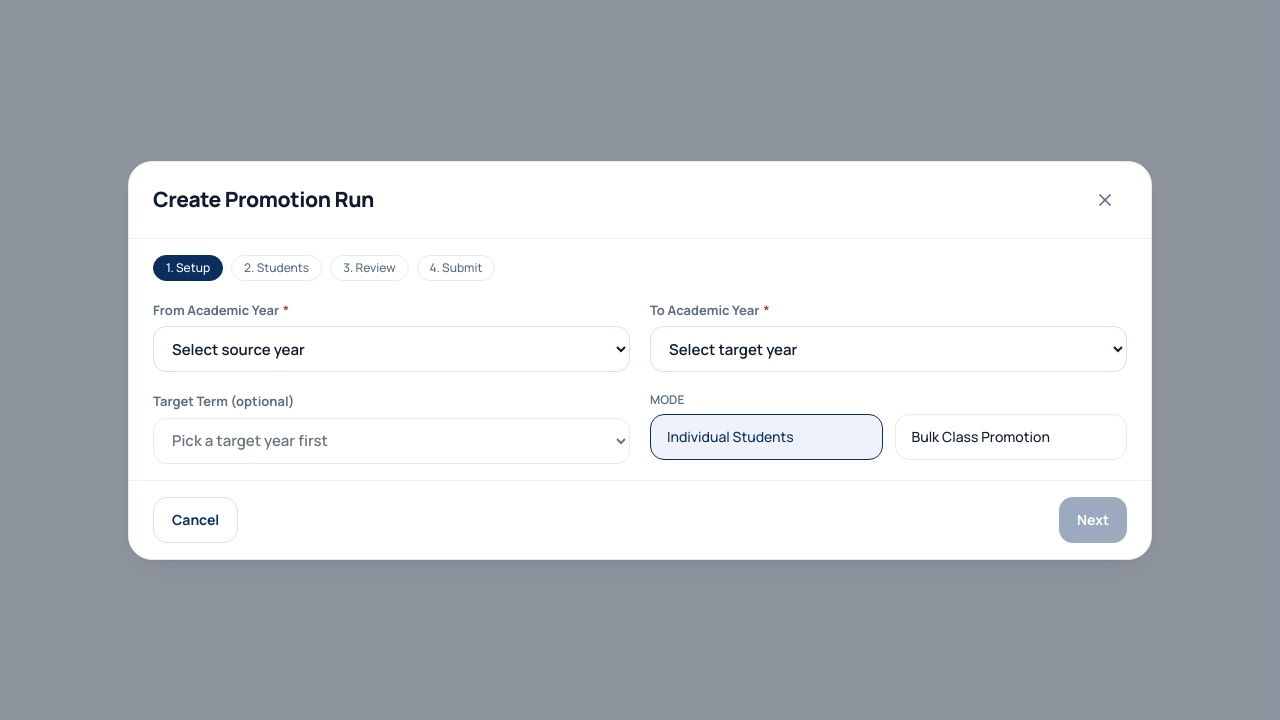
it: promotion wizard with actions › graduates a whole top-level class in bulk mode
The width and height of the screenshot is (1280, 720).
Select "2025/2026" in the dropdown labelled "From Academic Year*" at (392, 349), box [153,326,630,372]
Select "2026/2027" in the dropdown labelled "To Academic Year*" at (888, 349), box [650,326,1127,372]
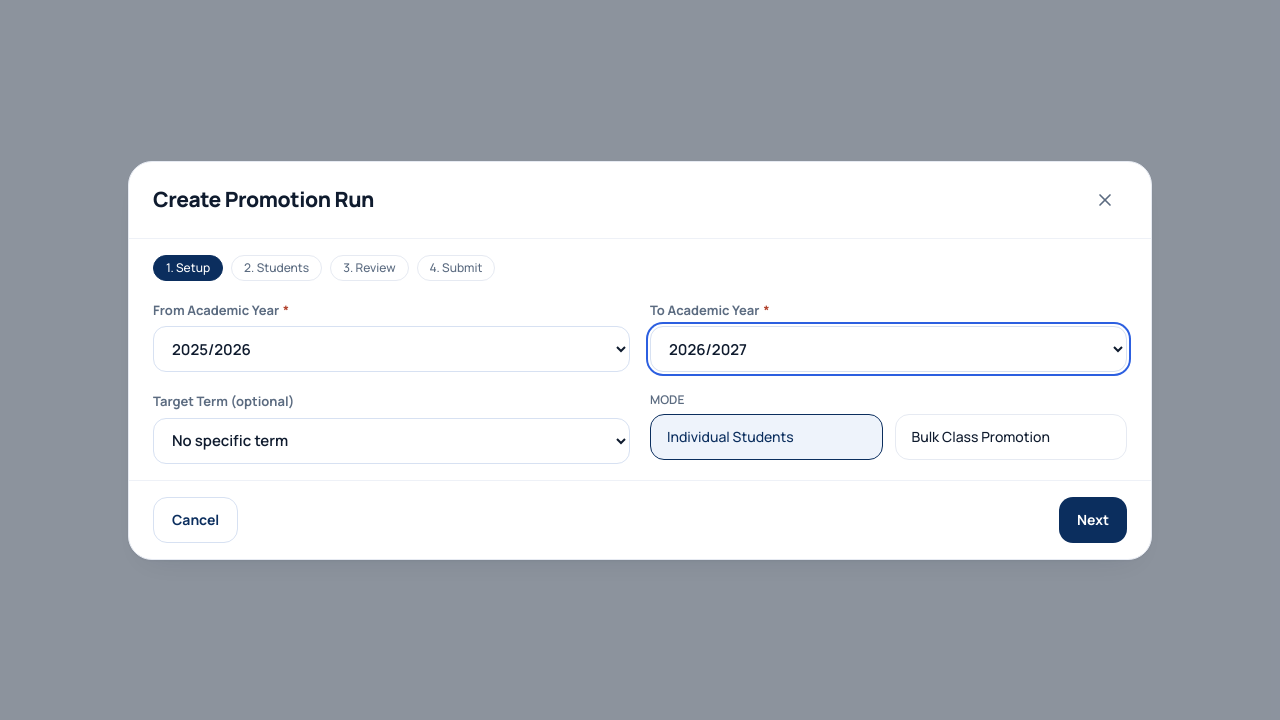
Click the button "Bulk Class Promotion" at (1011, 437), box [894,414,1127,460]
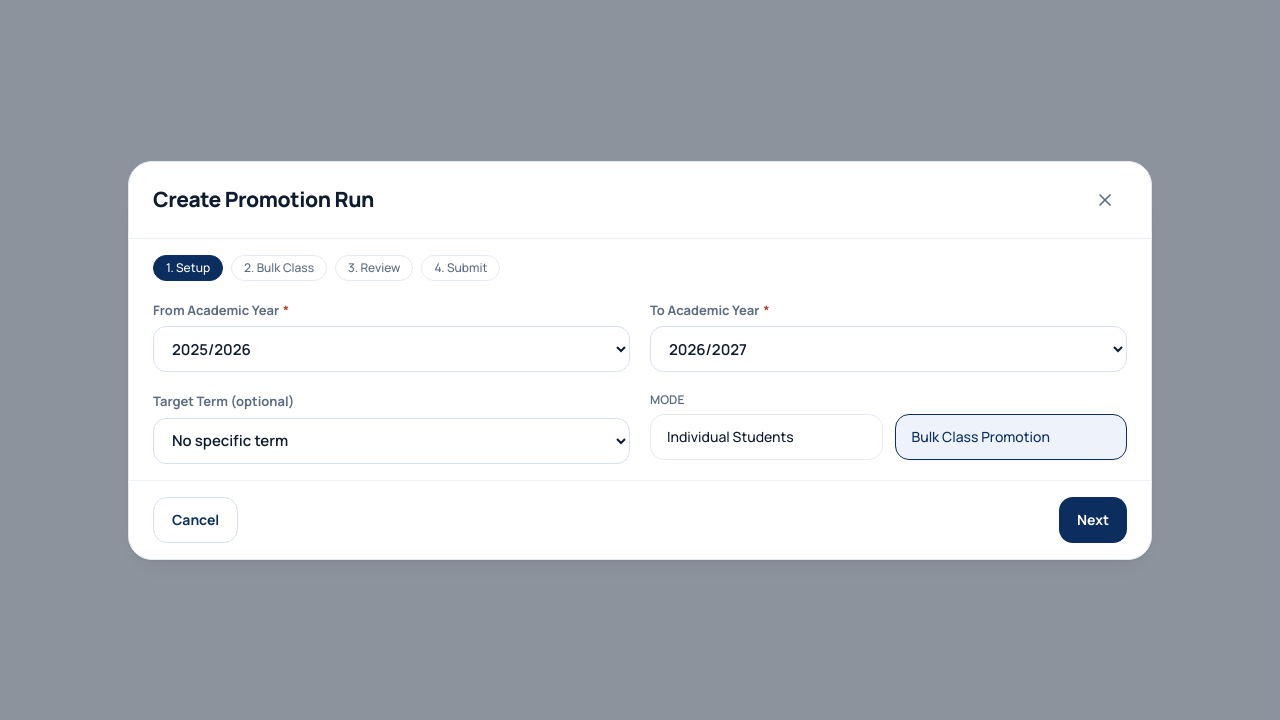
Click the button "Next" at (1093, 520), box [1059,496,1127,542]
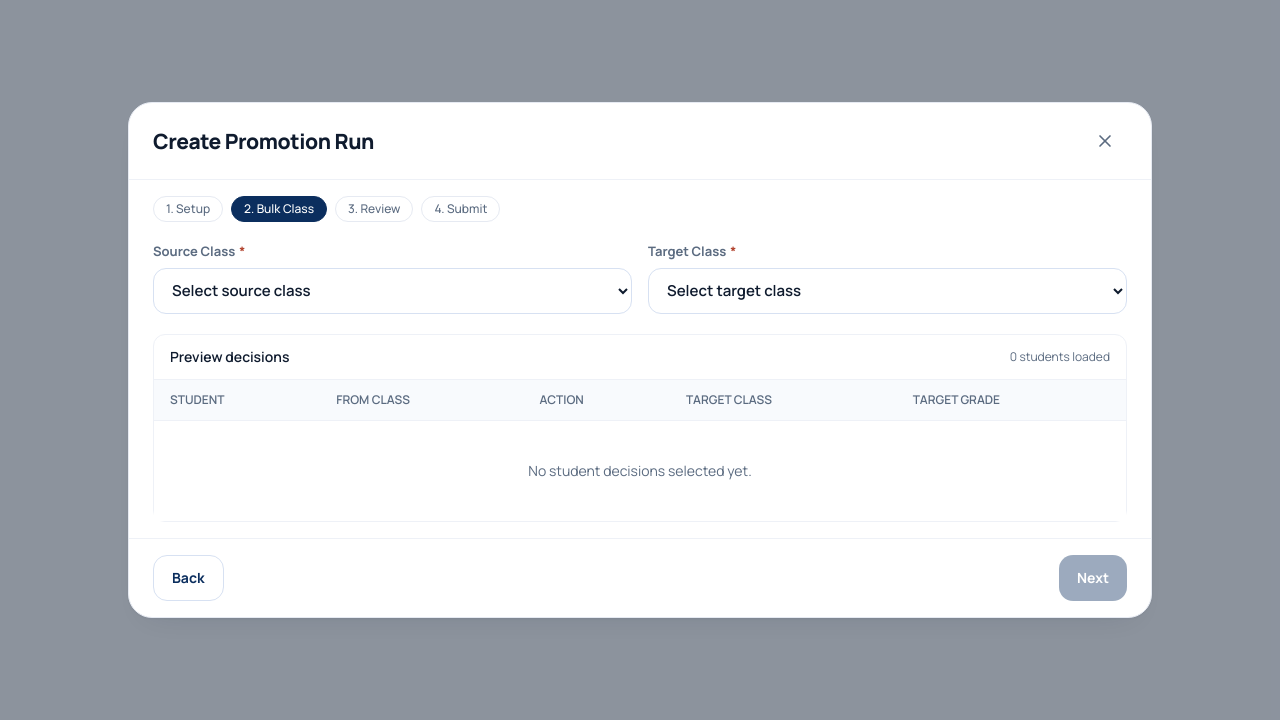
Select "SS 3 Science (SS 3)" in the dropdown labelled "Source Class*" at (392, 291), box [153,268,632,314]
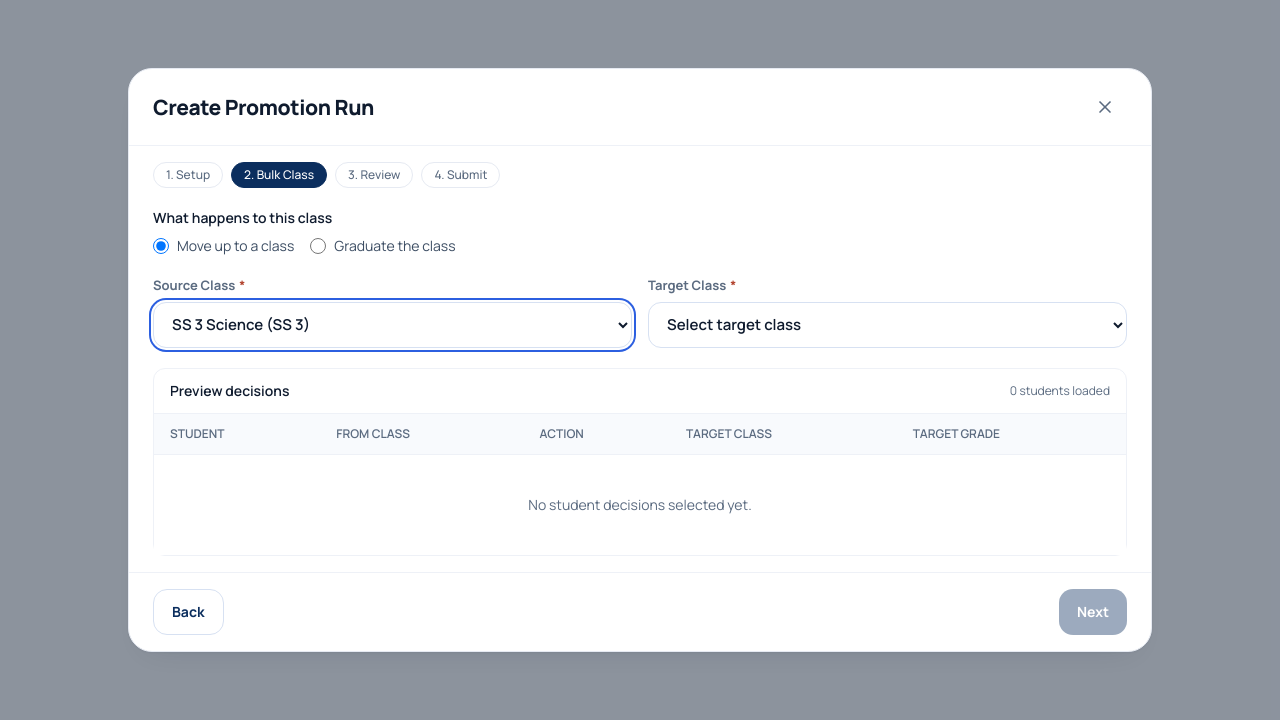
Click the radio button labelled "Graduate the class" at (318, 246), box [310,238,326,254]
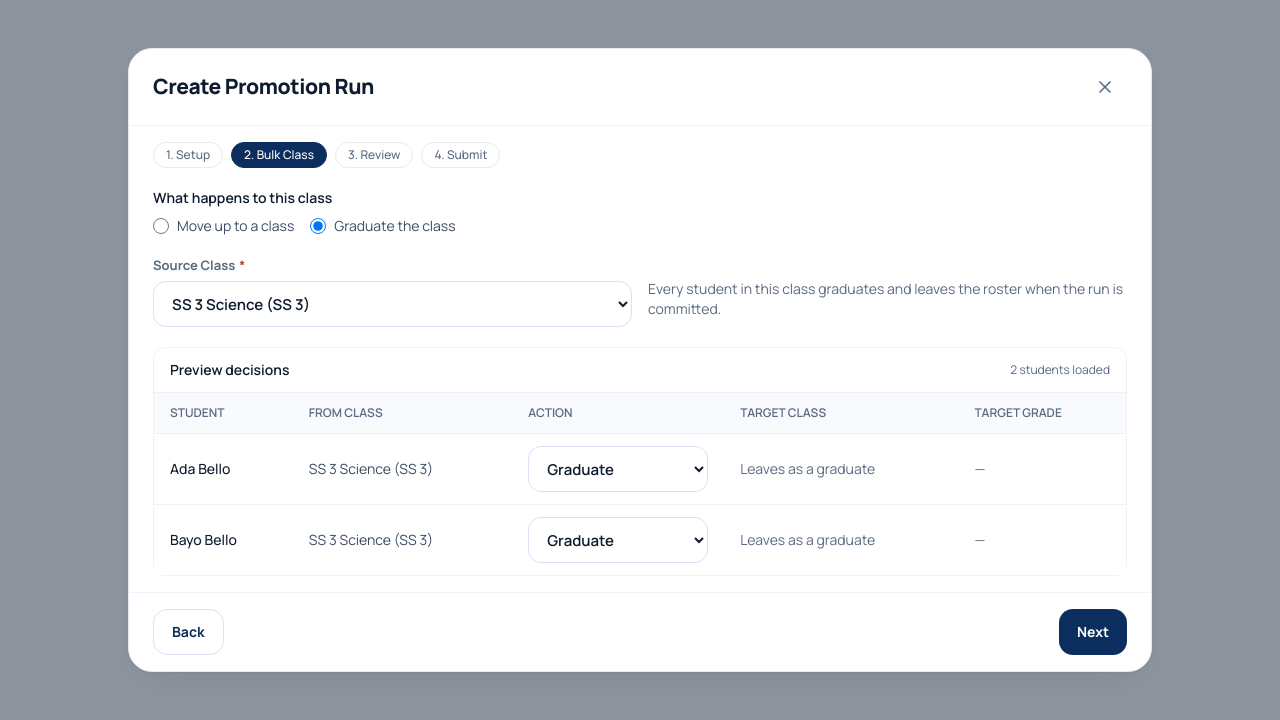
Now the text "2 students loaded" is shown, box [1010,362,1110,378]
Now the dropdown named "Action for Ada Bello" shows "Graduate", box [528,446,708,492]
Click the button "Next" at (1093, 632), box [1059,609,1127,655]
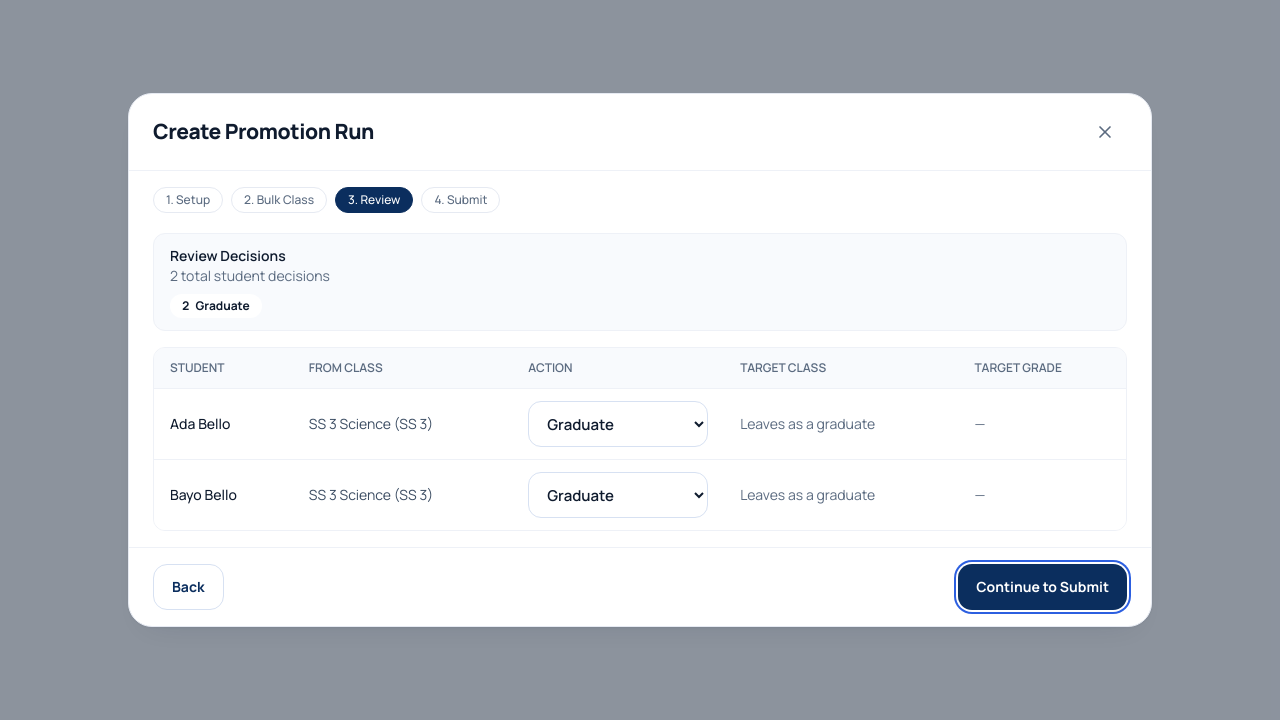
Now the list named "Decisions per action" reads "2 Graduate", box [170,294,262,318]
